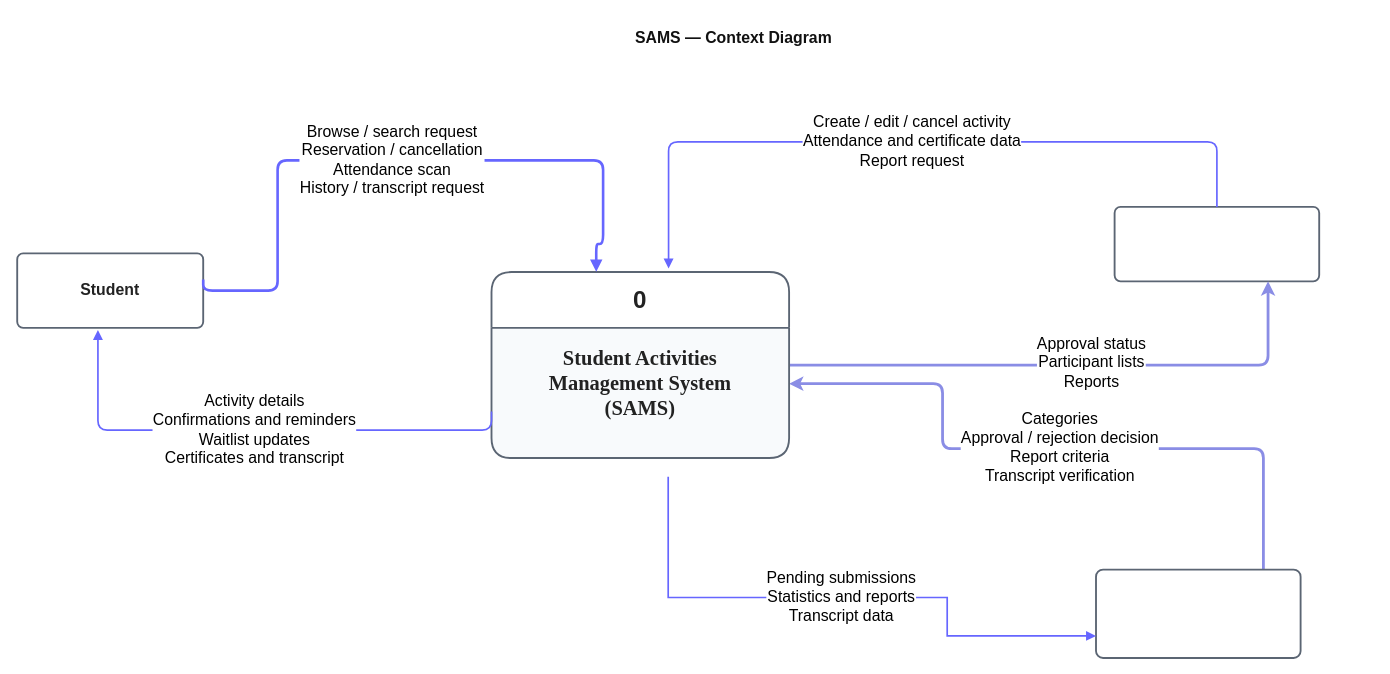
The diagram is 1390 pixels wide and 674 high, and some of its shapes have lost their labels. The shapes that lost their labels are listed below. From the top down, each one's centre as x and y in pixels, then its label:
the point at 1216,244: Activity Organizer
the point at 1198,613: Student Affairs Department
